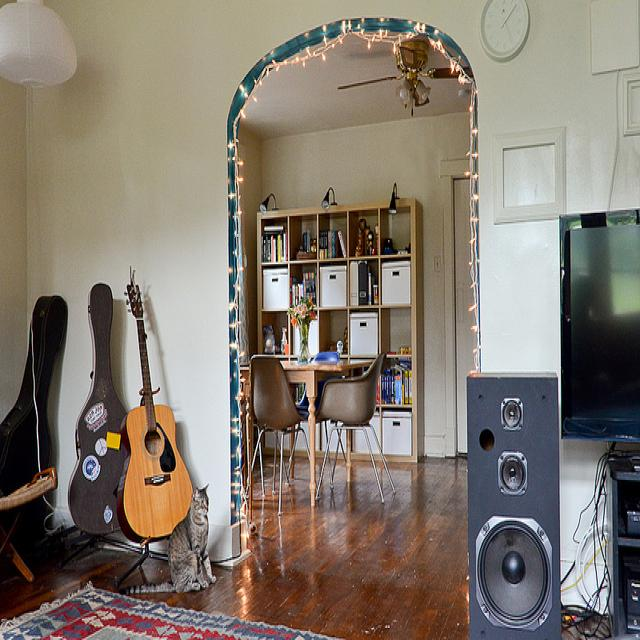chair: (311, 352, 399, 509), (251, 357, 311, 501)
dining table: (241, 358, 373, 520)
